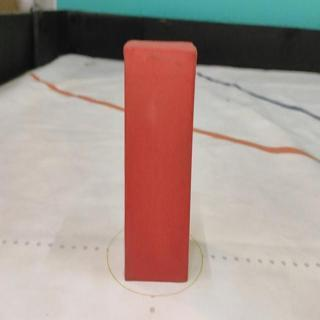redbox: (121, 38, 197, 282)
